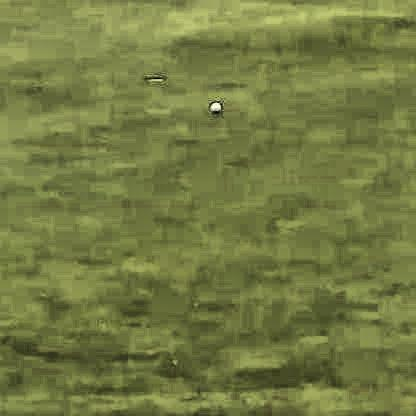golfball: (208, 100, 220, 112)
